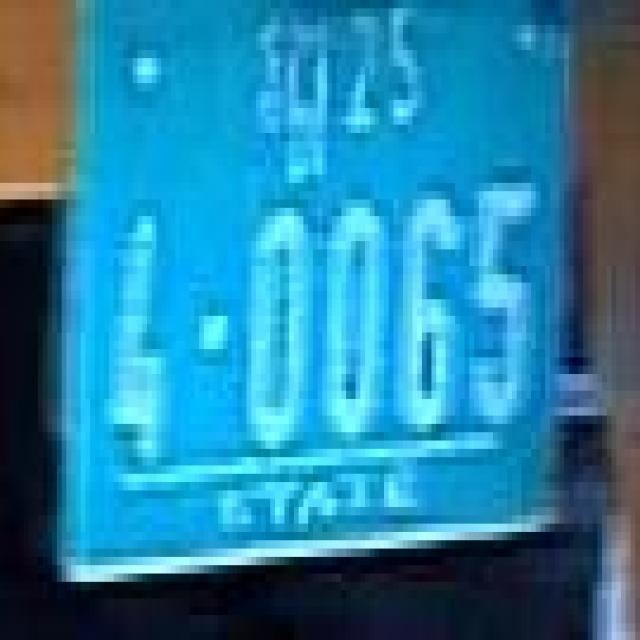State: (251, 0, 332, 178)
